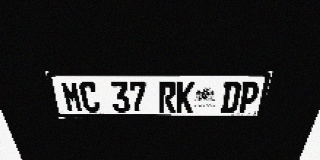3: (110, 81, 130, 112)
7: (128, 81, 147, 112)
C: (78, 81, 101, 112)
D: (220, 82, 242, 113)
K: (176, 81, 195, 113)
M: (60, 81, 84, 112)
P: (237, 82, 261, 113)
R: (159, 81, 176, 113)
